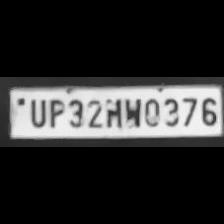0: (142, 95, 160, 127)
2: (84, 96, 104, 128)
3: (64, 96, 84, 128), (161, 95, 179, 127)
6: (198, 94, 218, 128)
7: (179, 94, 197, 128)
H: (102, 96, 122, 128)
P: (46, 97, 64, 127)
U: (26, 96, 48, 128)
W: (122, 94, 142, 128)
